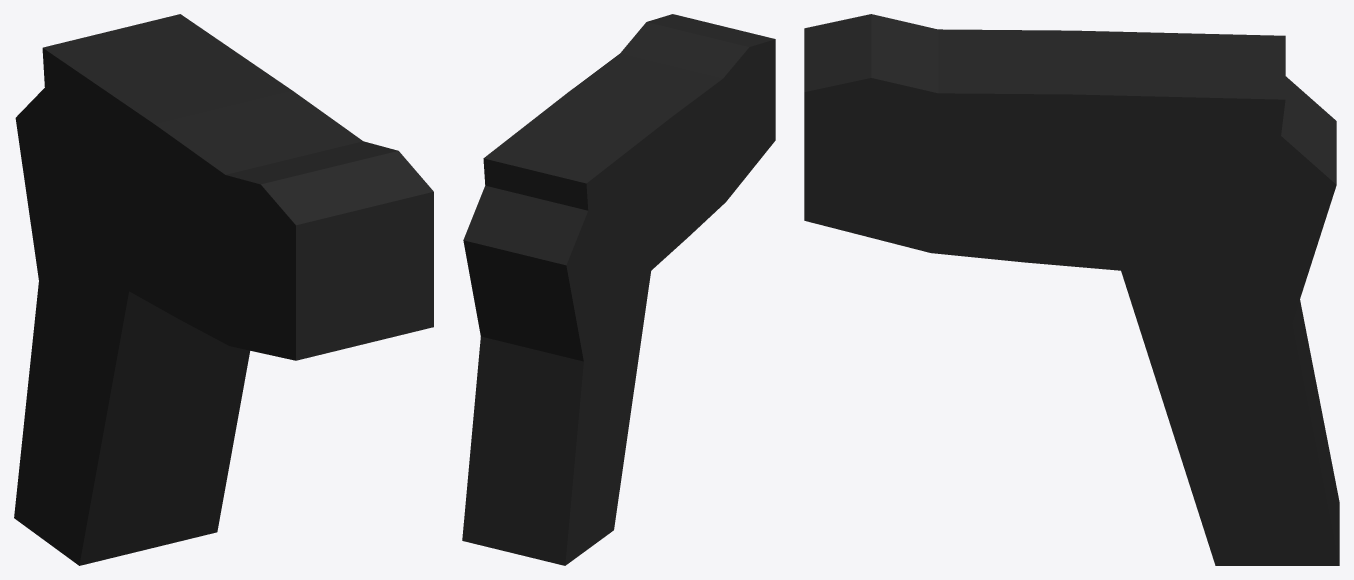
Rendered from gun.obj.
The picture shows the model from 3 angles, left to right: view 1: azimuth 30°, elevation 25°; view 2: azimuth 150°, elevation 25°; view 3: azimuth 270°, elevation 25°; orthographic projection. The views are drawn at different scales.
Visible parts, largest first — view 1: 立方体; view 2: 立方体; view 3: 立方体.
Part boxes in pixels (<box>): 立方体: <box>14,14,433,565</box>; 立方体: <box>462,14,775,565</box>; 立方体: <box>804,14,1339,565</box>.
Size of the model in its own units: 0.565 by 2.01 by 2.
Materials: 1 (1 with a texture image).
